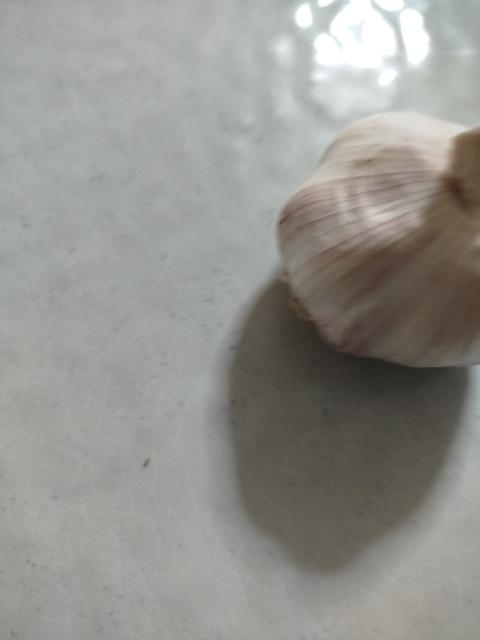garlic: (275, 110, 479, 368)
